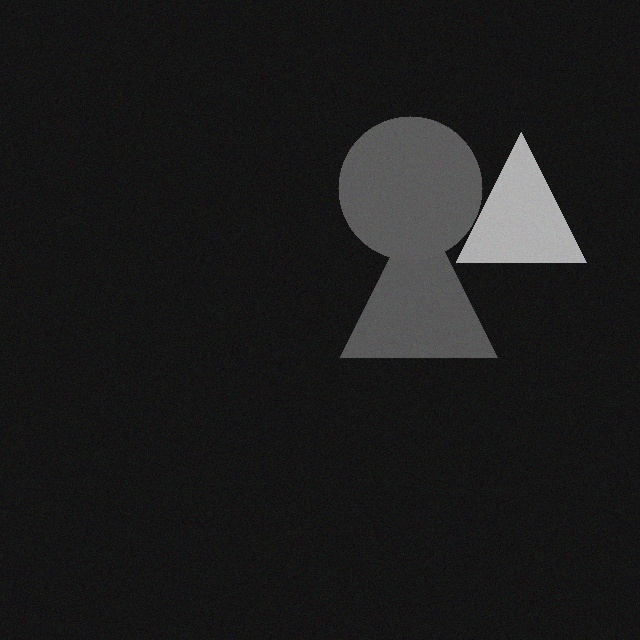circle: (353, 121, 497, 265)
triangle: (355, 205, 512, 362), (471, 137, 601, 267)
